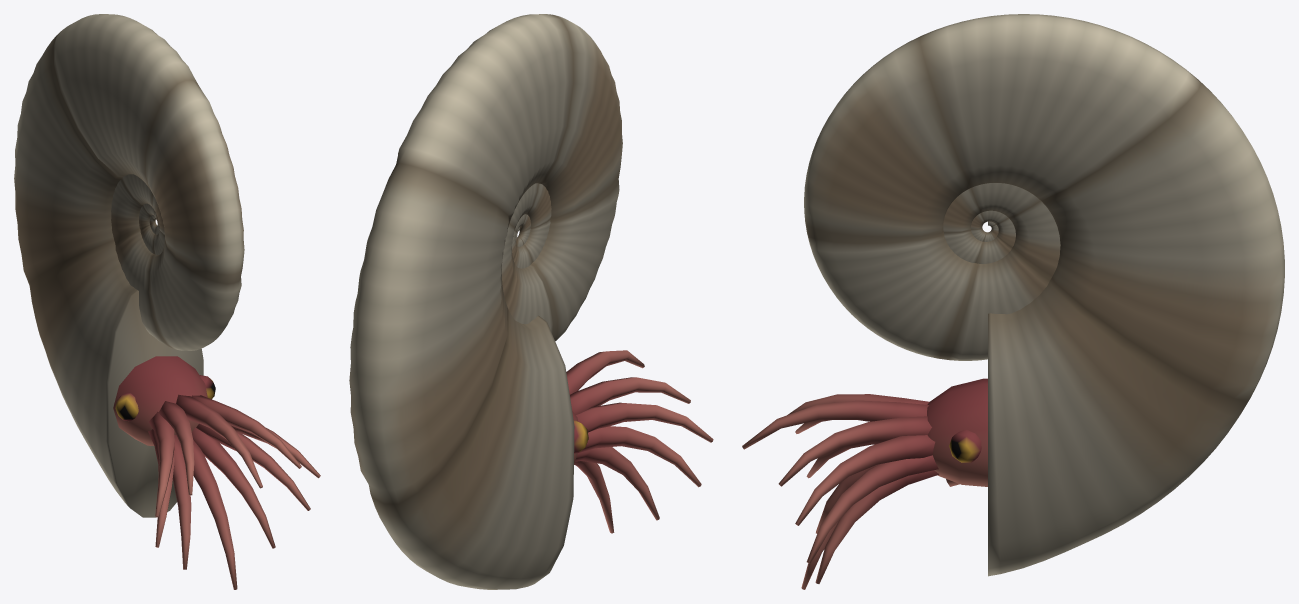
File: Parapuzosia.fbx
3 views of the same model, side by side, from view 1: azimuth 30°, elevation 25°; view 2: azimuth 150°, elevation 25°; view 3: azimuth 270°, elevation 25° (orthographic). The views are drawn at different scales.
Parts seen in each view (by area): view 1: Parapuzosia; view 2: Parapuzosia; view 3: Parapuzosia.
Boxes of the visible parts, x1,y1,x2,y2 form: Parapuzosia: [14, 14, 320, 589]; Parapuzosia: [349, 14, 713, 589]; Parapuzosia: [742, 14, 1284, 589].
Bounding box in the file's own units: 0.5966 × 1.7 × 1.46.
